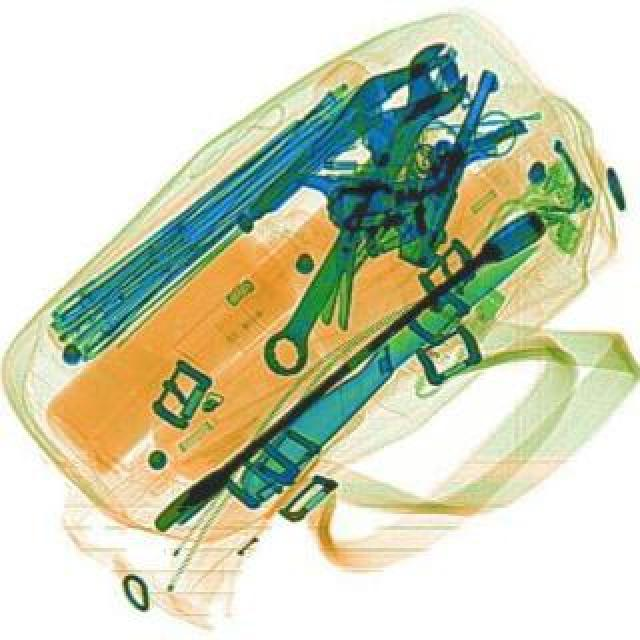gun: (316, 40, 500, 268)
knife: (228, 226, 548, 504)
scissors: (240, 32, 482, 384)
